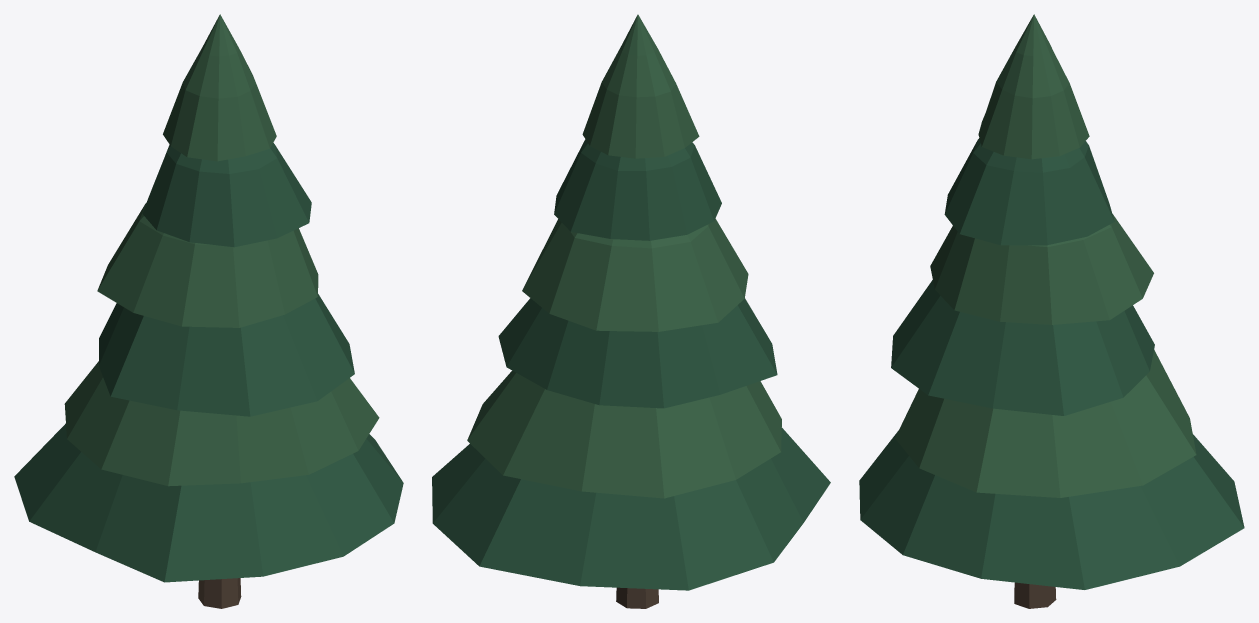
File: prop_pine_tree.glb
The picture shows the model from 3 angles, left to right: view 1: azimuth 30°, elevation 25°; view 2: azimuth 150°, elevation 25°; view 3: azimuth 270°, elevation 25°; orthographic projection.
Visible parts, largest first — view 1: pine_needles0, pine_needles1, pine_bark; view 2: pine_needles0, pine_needles1, pine_bark; view 3: pine_needles0, pine_needles1, pine_bark.
Boxes of the visible parts, box(x1,y1,x2,y2) form: pine_needles0: box(14, 143, 403, 582); pine_needles1: box(64, 14, 379, 486); pine_bark: box(198, 578, 241, 608); pine_needles0: box(432, 139, 830, 590); pine_needles1: box(467, 14, 781, 498); pine_bark: box(616, 587, 658, 608); pine_needles0: box(859, 138, 1244, 589); pine_needles1: box(895, 14, 1196, 497); pine_bark: box(1014, 582, 1056, 608).
Bounding box in the file's own units: 6.92 × 11.27 × 6.72.
